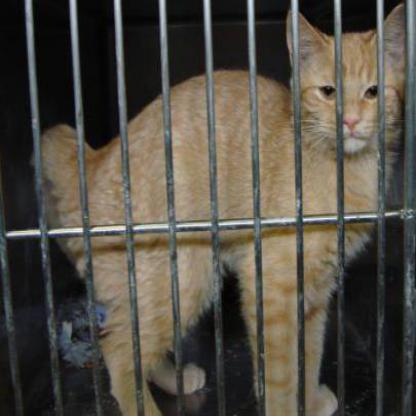cat: (112, 10, 410, 228)
